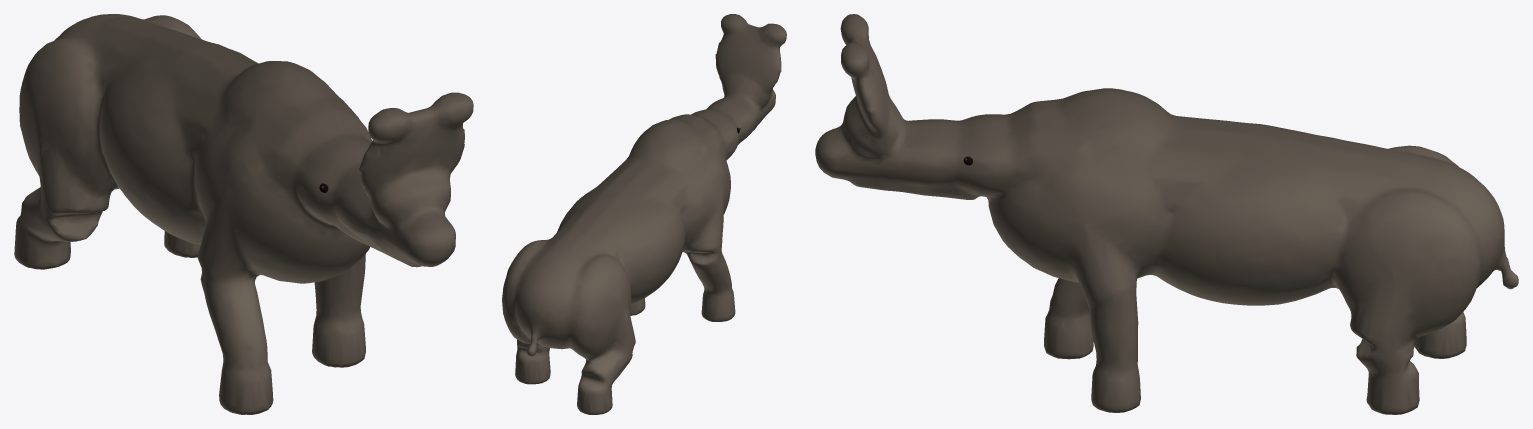
File: EmbolotheriumAndrewsi.fbx
3 renders of one model, left to right at view 1: azimuth 30°, elevation 25°; view 2: azimuth 150°, elevation 25°; view 3: azimuth 270°, elevation 25°, orthographic. The views are drawn at different scales.
Parts seen in each view (by area): view 1: EmbolotheriumAndrewsi; view 2: EmbolotheriumAndrewsi; view 3: EmbolotheriumAndrewsi.
Part boxes in pixels (box(x1,y1,x2,y2)): EmbolotheriumAndrewsi: box(14, 14, 473, 414); EmbolotheriumAndrewsi: box(502, 14, 786, 414); EmbolotheriumAndrewsi: box(815, 14, 1518, 414).
Size of the model in its own units: 0.656 by 1.3 by 2.38.
